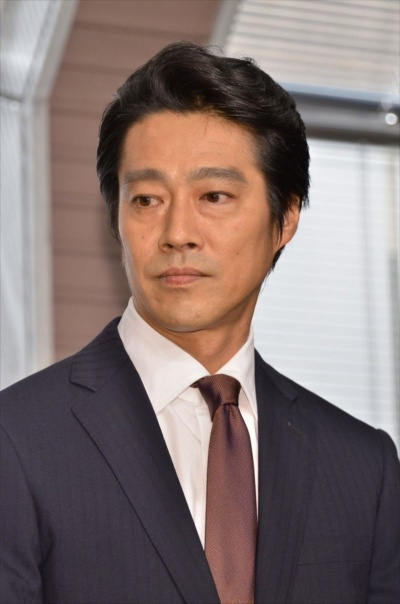male: (67, 29, 346, 358)
